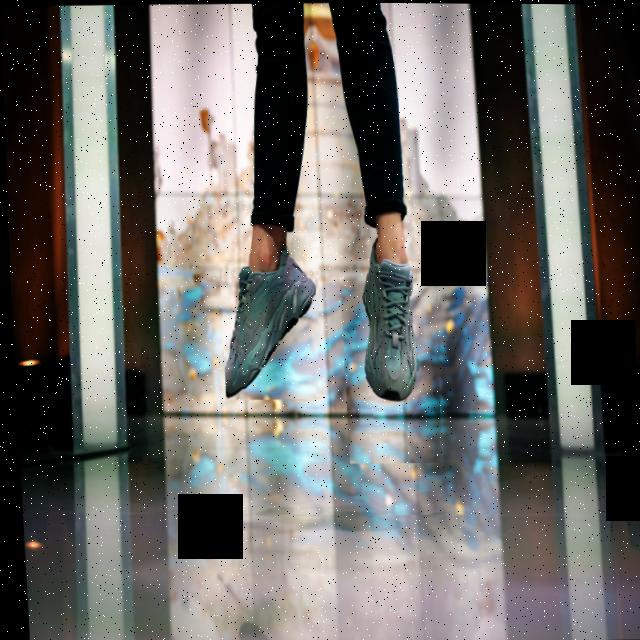shoe: (333, 198, 447, 463), (216, 239, 323, 400)
